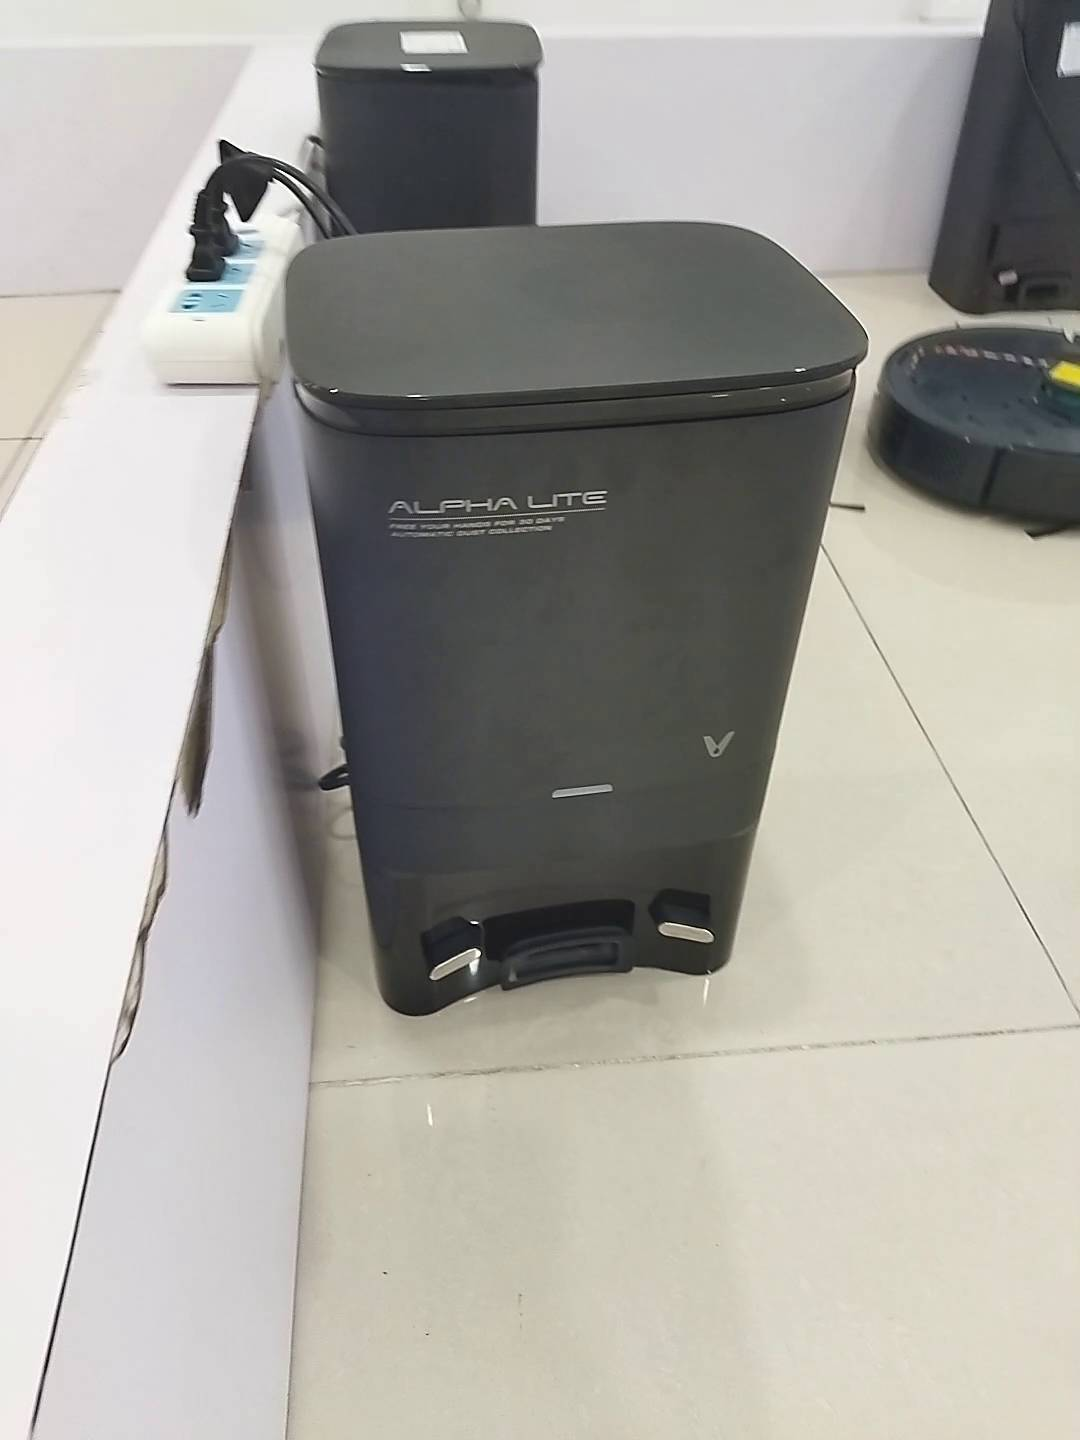dust collecting barrel: (281, 217, 869, 1017), (314, 15, 558, 235)
